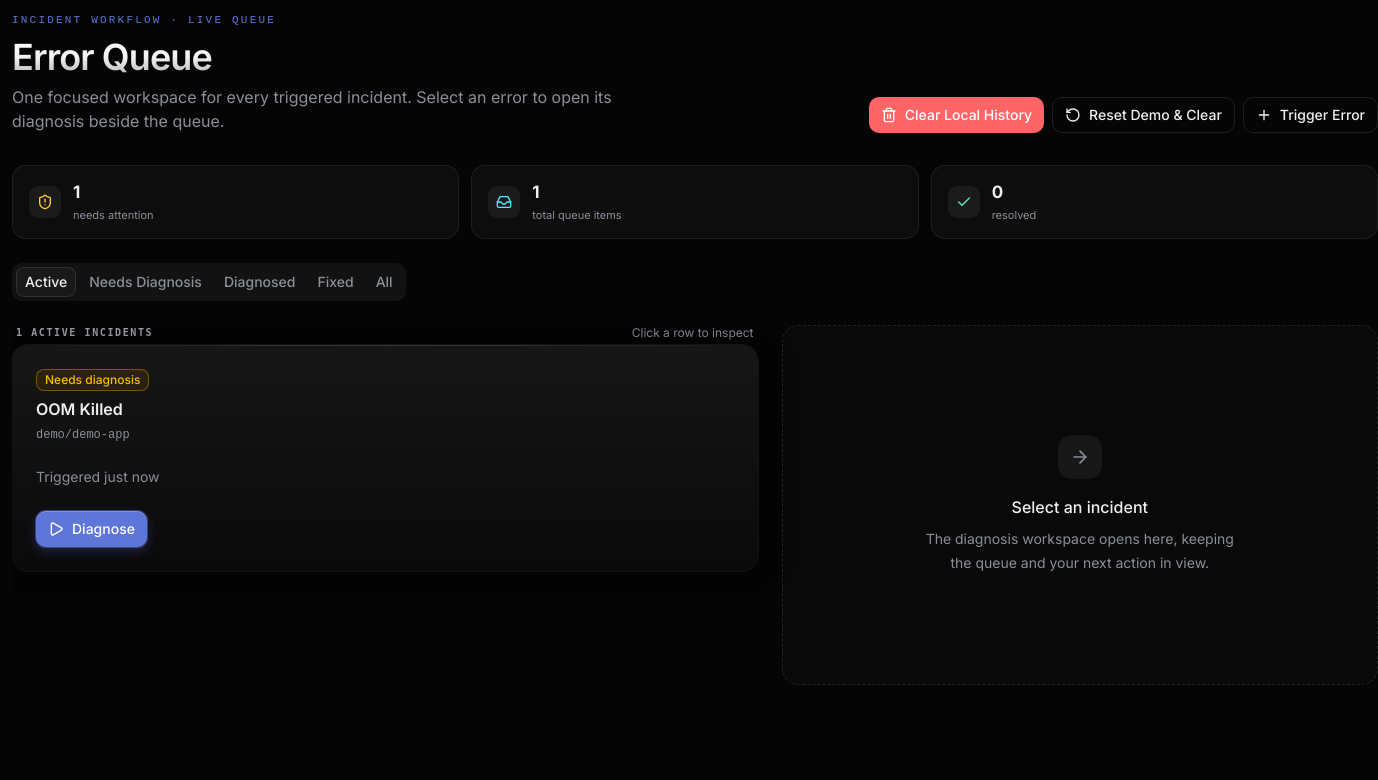
ErrorsPage › clears all queue items
What coordinates should you click on to do the following:
click the button "Clear Local History"
I would click on:
 (956, 114)
Its box is [869, 96, 1044, 132].
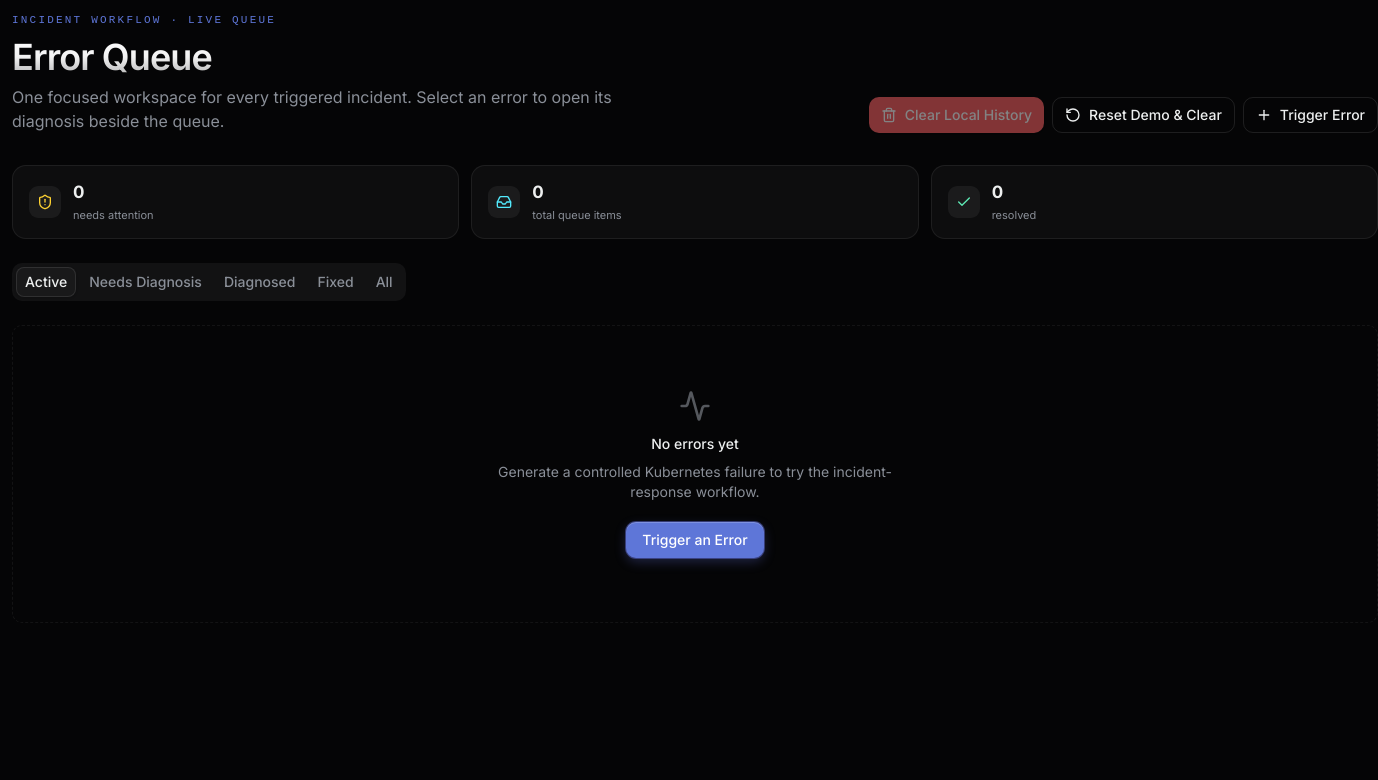
Expected: the text "No errors yet" is shown, [651, 434, 739, 454]
Expected: the text "OOM Killed" is gone
